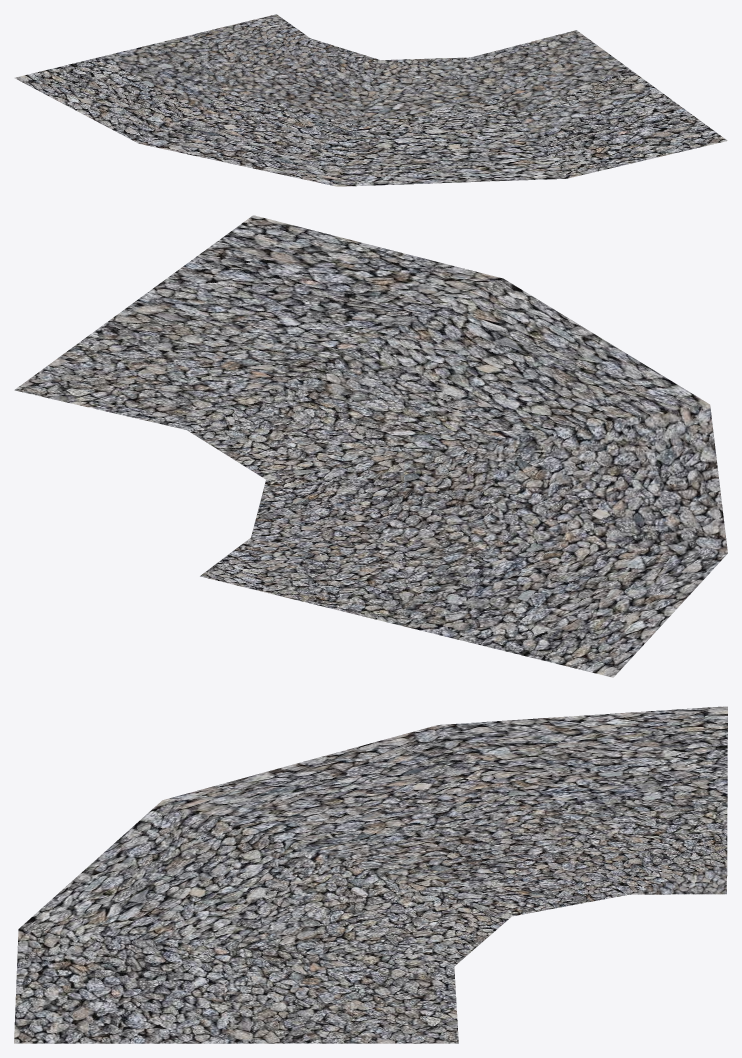
Rendered from GravelPathTurn.fbx.
3 renders of one model, top to bottom at view 1: azimuth 30°, elevation 25°; view 2: azimuth 150°, elevation 25°; view 3: azimuth 270°, elevation 25°, orthographic. The views are drawn at different scales.
Visible parts, largest first — view 1: GravelPathTurn1Segment; view 2: GravelPathTurn1Segment; view 3: GravelPathTurn1Segment.
Part boxes in pixels (left/top/right/bottom): GravelPathTurn1Segment: left=14, top=14, right=727, bottom=186; GravelPathTurn1Segment: left=14, top=215, right=727, bottom=677; GravelPathTurn1Segment: left=14, top=706, right=727, bottom=1043.
Bounding box in the file's own units: 21.44 × 1.56e-06 × 19.16.
1 material, 1 textured.
